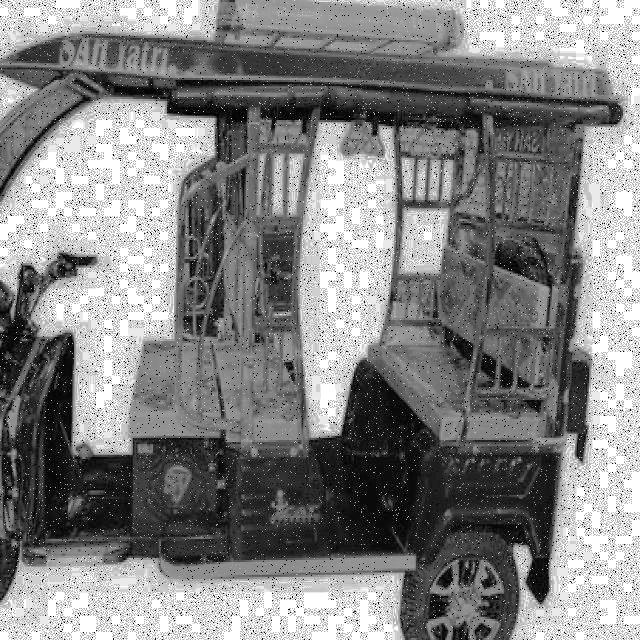Toto: (0, 23, 617, 640)
